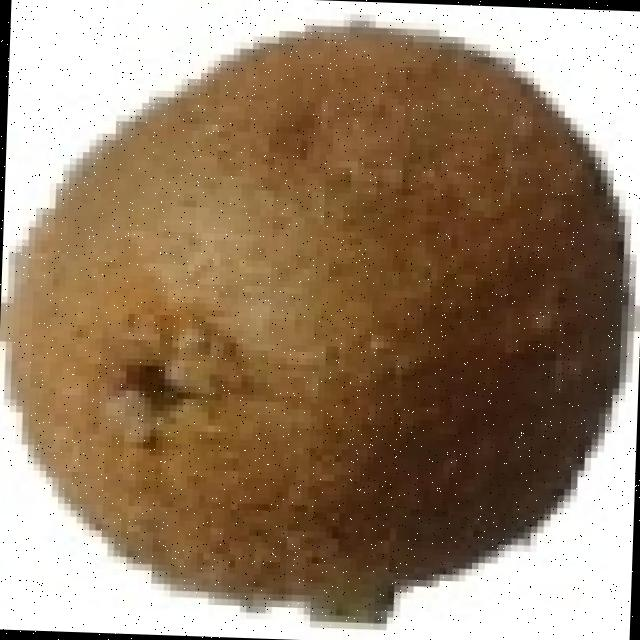kiwi: (4, 18, 617, 610)
